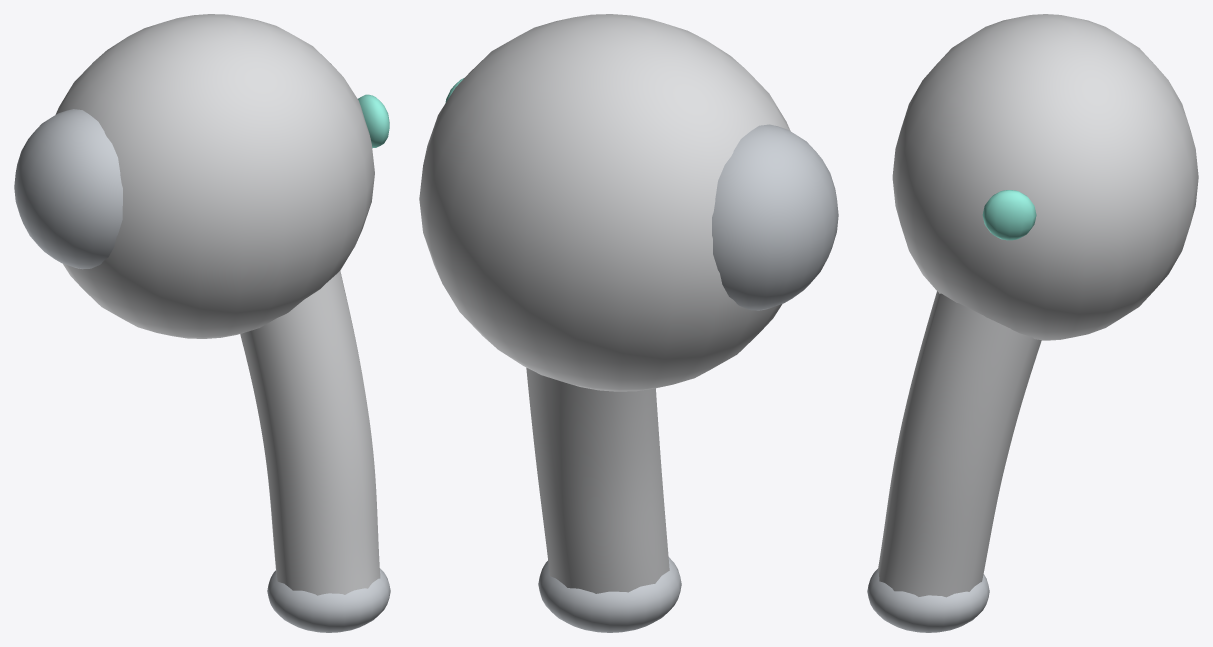
The model's file is earbud.fbx.
3 renders of one model, left to right at view 1: azimuth 30°, elevation 25°; view 2: azimuth 150°, elevation 25°; view 3: azimuth 270°, elevation 25°, orthographic. The views are drawn at different scales.
Parts seen in each view (by area): view 1: Earbud_Bud, Earbud_Stem, Earbud_Tip, Earbud_StemEnd, Earbud_Light; view 2: Earbud_Bud, Earbud_Stem, Earbud_Tip, Earbud_StemEnd; view 3: Earbud_Bud, Earbud_Stem, Earbud_StemEnd, Earbud_Light.
Boxes of the visible parts, x1,y1,x2,y2 form: Earbud_Bud: (55,14,374,338); Earbud_Stem: (240,271,380,595); Earbud_Tip: (14,109,122,269); Earbud_StemEnd: (267,568,390,632); Earbud_Light: (358,94,389,148); Earbud_Bud: (419,14,790,391); Earbud_Stem: (526,367,669,593); Earbud_Tip: (712,124,838,310); Earbud_StemEnd: (538,557,681,632); Earbud_Bud: (892,14,1198,340); Earbud_Stem: (878,291,1041,597); Earbud_StemEnd: (867,569,989,632); Earbud_Light: (982,190,1036,240).
Bounding box in the file's own units: 0.0433 × 0.069 × 0.0368.
